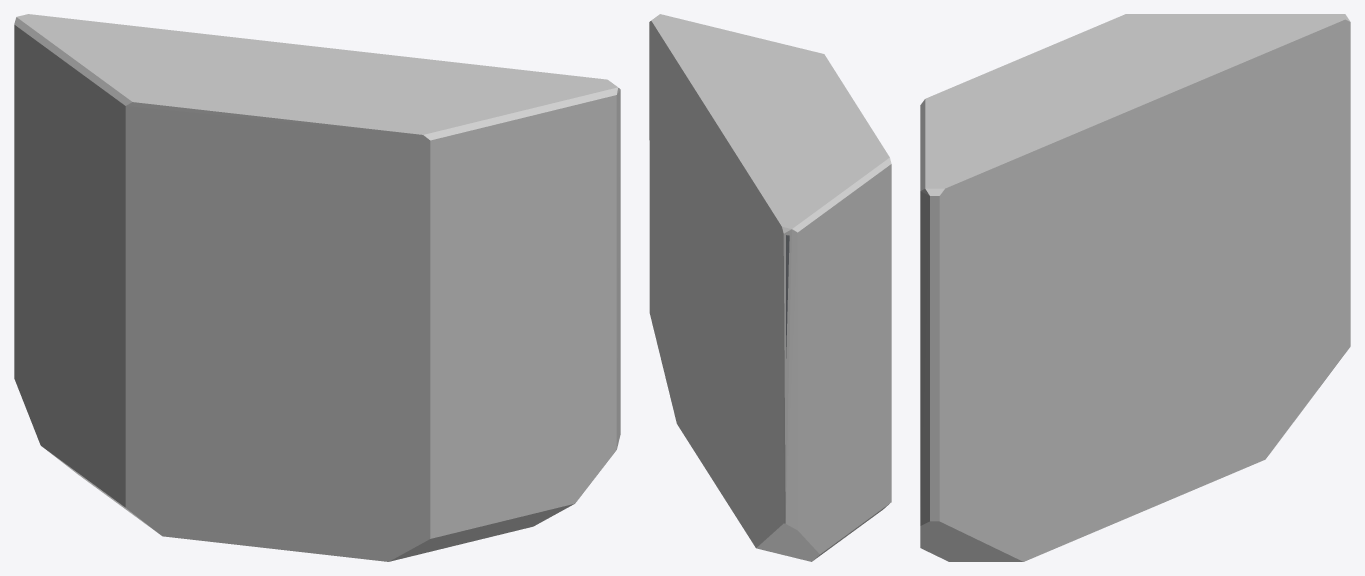
File: MainCity_Prop_Computer_03_001.fbx
3 renders of one model, left to right at view 1: azimuth 30°, elevation 25°; view 2: azimuth 150°, elevation 25°; view 3: azimuth 270°, elevation 25°, orthographic. The views are drawn at different scales.
Visible parts, largest first — view 1: MainCity_Prop_Computer_03_001_ConvexHulls; view 2: MainCity_Prop_Computer_03_001_ConvexHulls; view 3: MainCity_Prop_Computer_03_001_ConvexHulls.
Boxes of the visible parts, x1,y1,x2,y2 form: MainCity_Prop_Computer_03_001_ConvexHulls: [14, 14, 620, 561]; MainCity_Prop_Computer_03_001_ConvexHulls: [649, 14, 891, 561]; MainCity_Prop_Computer_03_001_ConvexHulls: [920, 14, 1350, 561].
Size of the model in its own units: 45.56 by 46.31 by 48.26.
